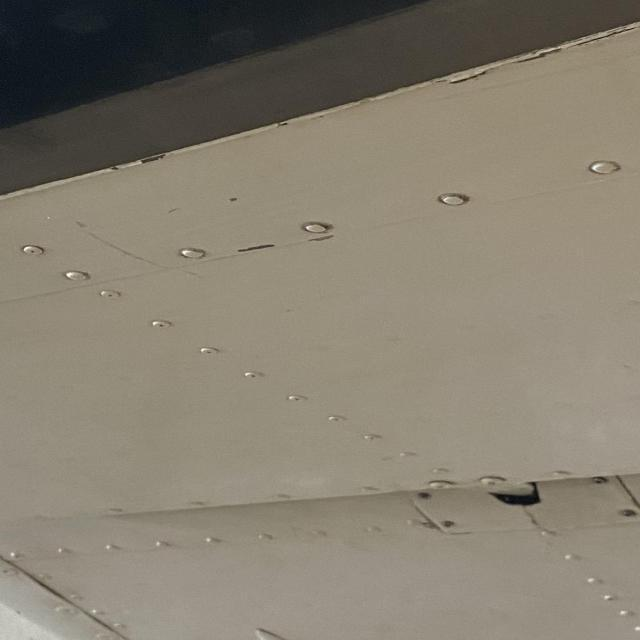Paint-off: (308, 235, 335, 242)
